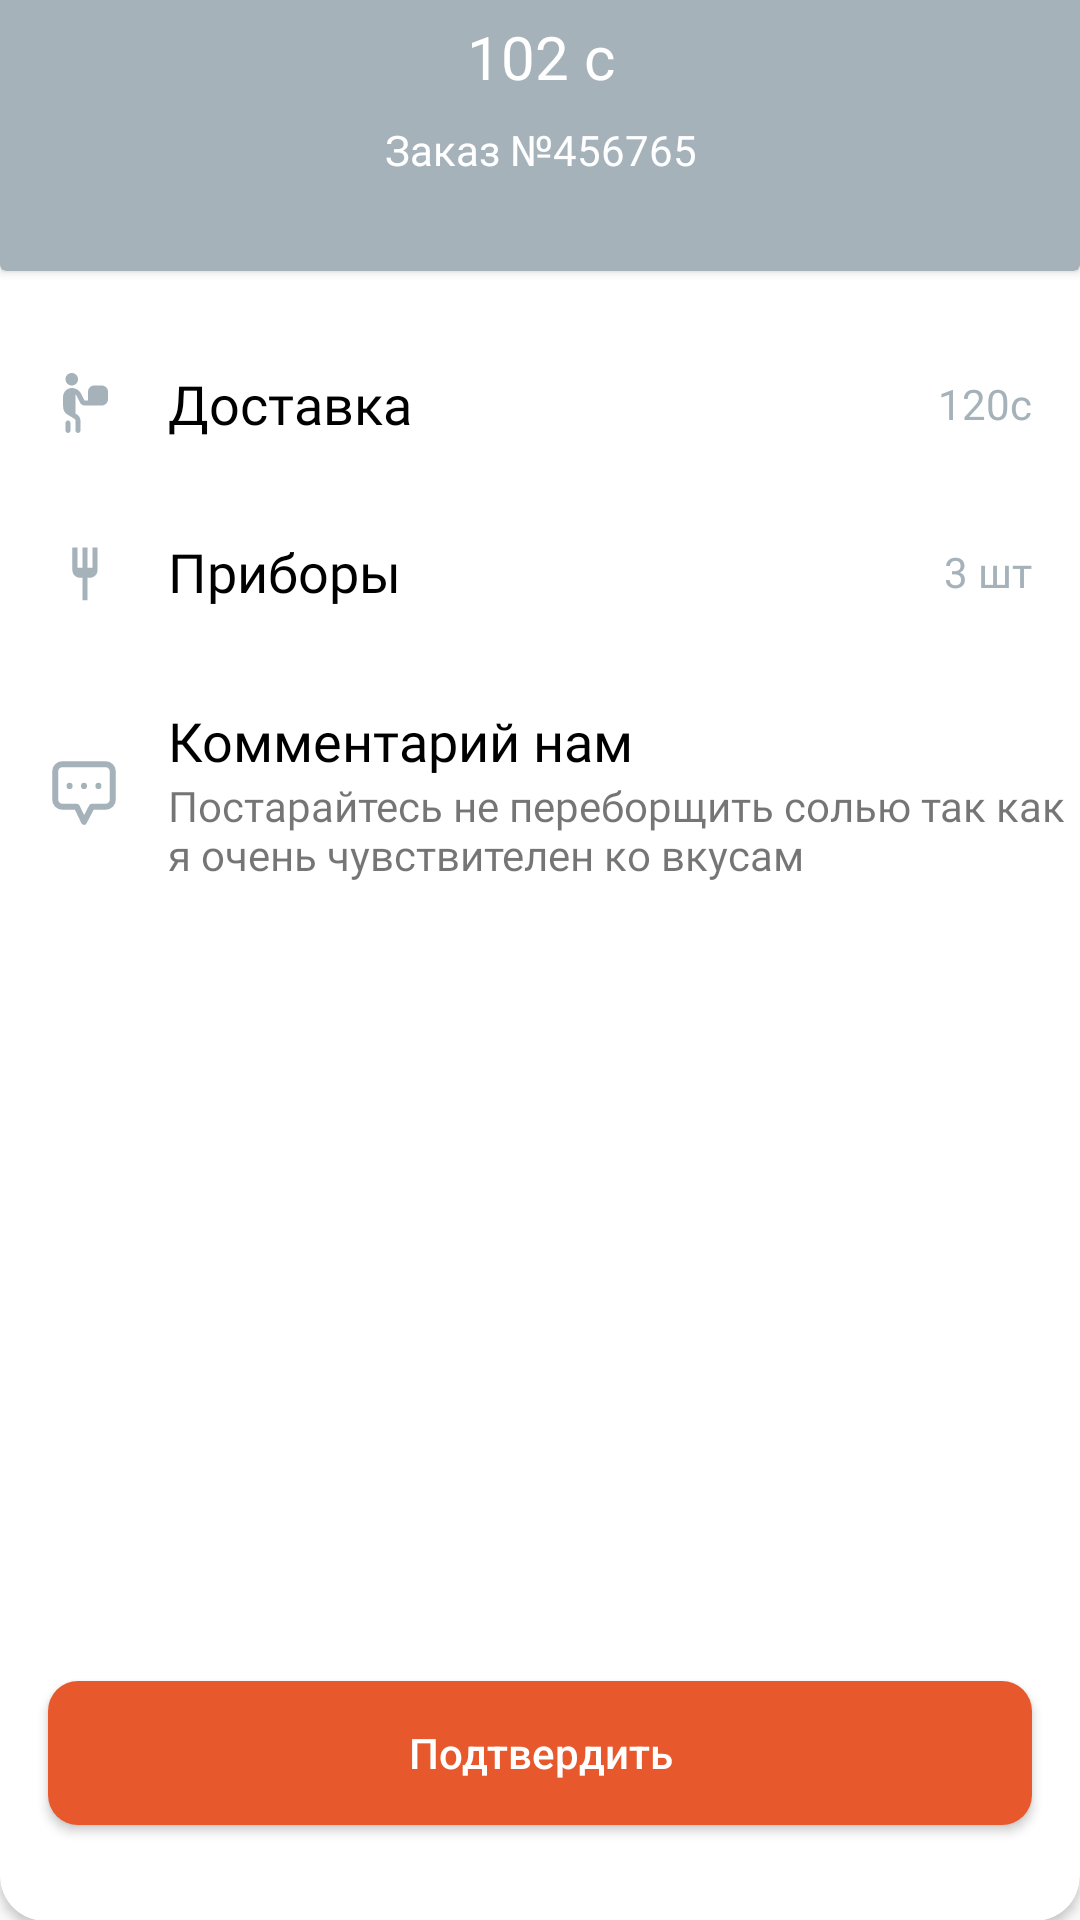

Screen size 1080×1920. Icon name, then its center in pixels as [x,y]:
annotation typing: [84,793]
delivery: [85,403]
fork: [85,573]
